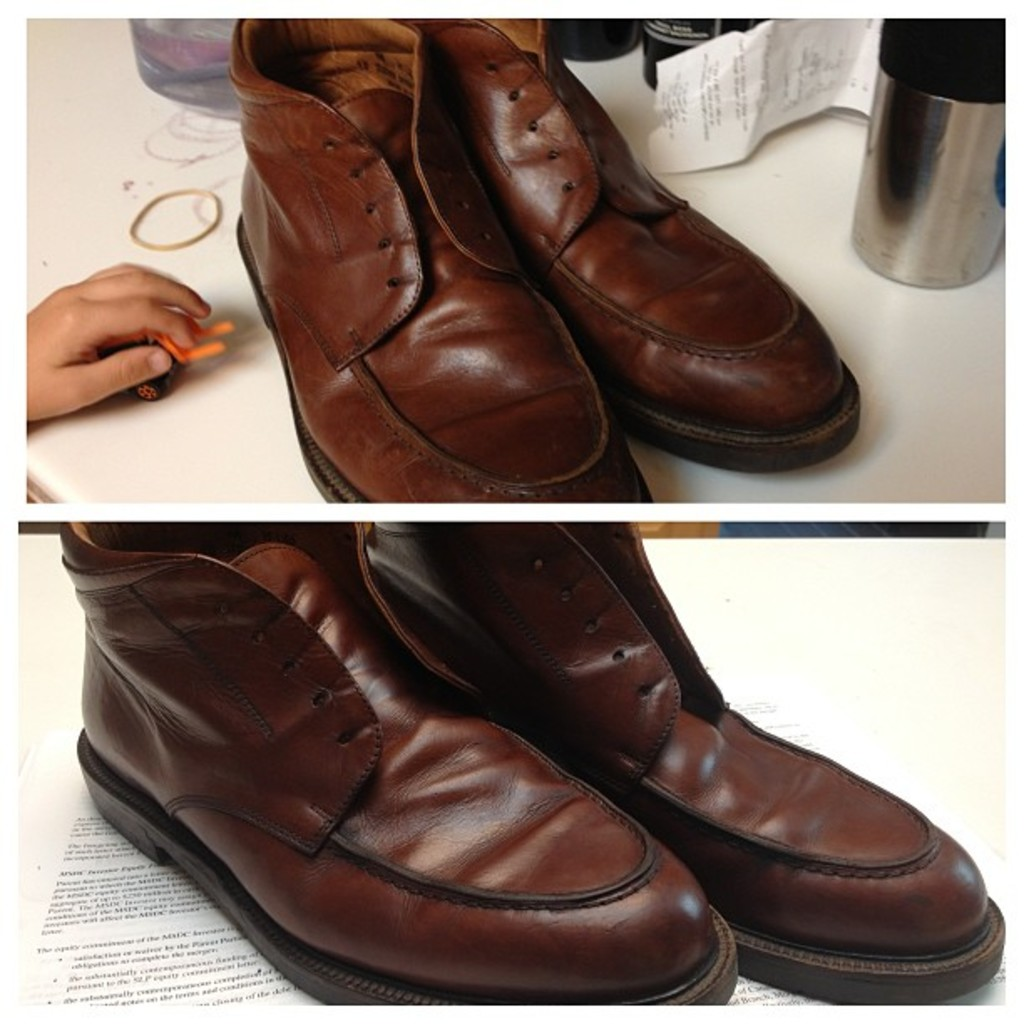person: (24, 263, 223, 426)
